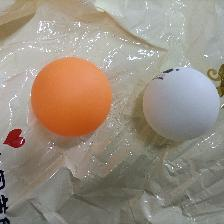WhiteBall: (142, 66, 219, 141)
YellowBall: (30, 55, 111, 137)
